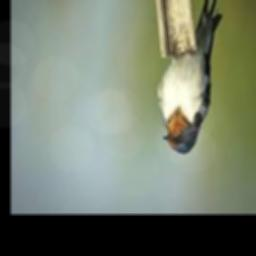Swallow: (157, 0, 224, 153)
